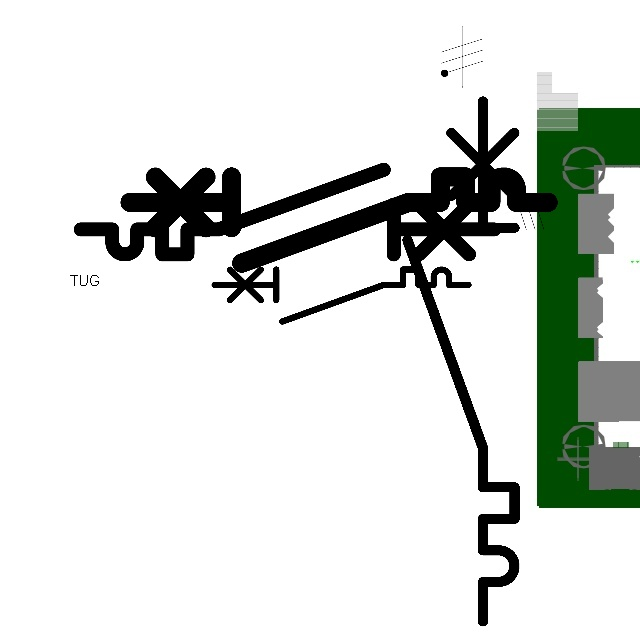interruptor_termomagnetico: (394, 87, 528, 634), (119, 166, 559, 274), (70, 159, 505, 265), (208, 263, 475, 328)
